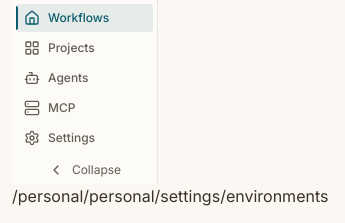
AppNavBar settings navigation › opens MCP from settings without falling onto the malformed workflows slug
Click the button "MCP" at (84, 108), box [16,94,153,122]
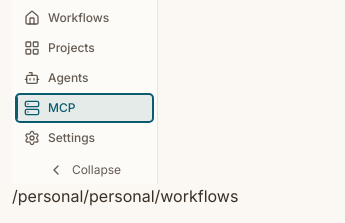
Now the text with test id "location-probe" reads "/personal/personal/workflows", box [12,186,238,206]
